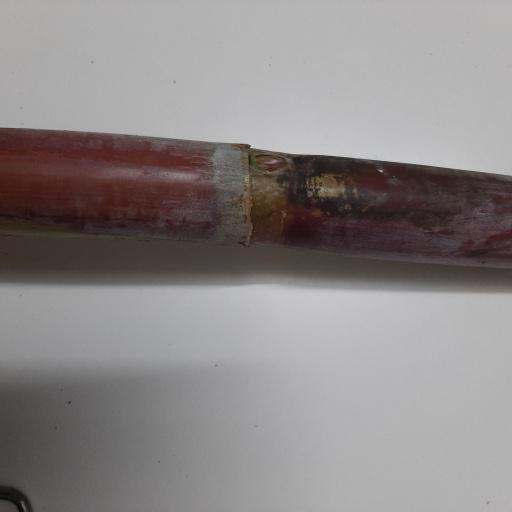Bud: (250, 153, 288, 174)
